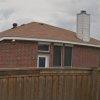Chimney: (69, 5, 93, 47)
